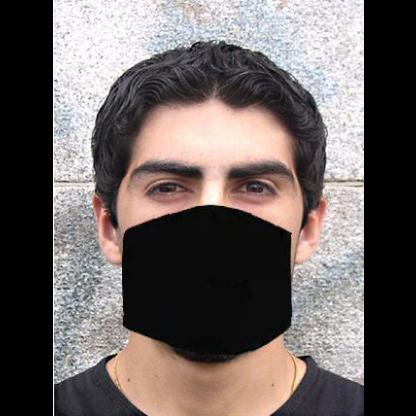Fabric/Cloth Mask: (101, 122, 315, 364)
